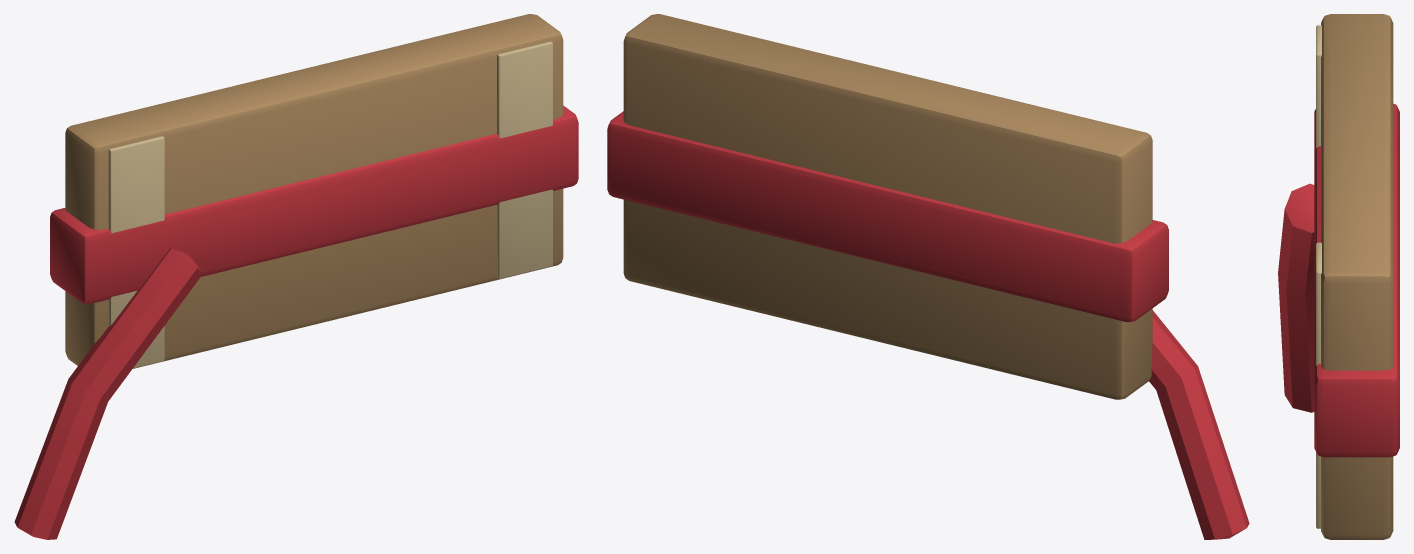
The model's file is Ninja_Plate_0.fbx.
3 views of the same model, side by side, from view 1: azimuth 30°, elevation 25°; view 2: azimuth 150°, elevation 25°; view 3: azimuth 270°, elevation 25° (orthographic). The views are drawn at different scales.
Parts seen in each view (by area): view 1: Ninja_Plate_0; view 2: Ninja_Plate_0; view 3: Ninja_Plate_0.
Boxes of the visible parts, box(x1,y1,x2,y2) form: Ninja_Plate_0: box(14, 14, 578, 539); Ninja_Plate_0: box(607, 14, 1249, 539); Ninja_Plate_0: box(1278, 14, 1399, 539).
Size of the model in its own units: 0.2274 by 0.143 by 0.037.
